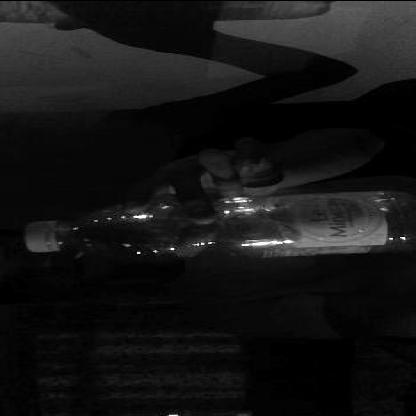plastic_bottles: (21, 189, 416, 258)
